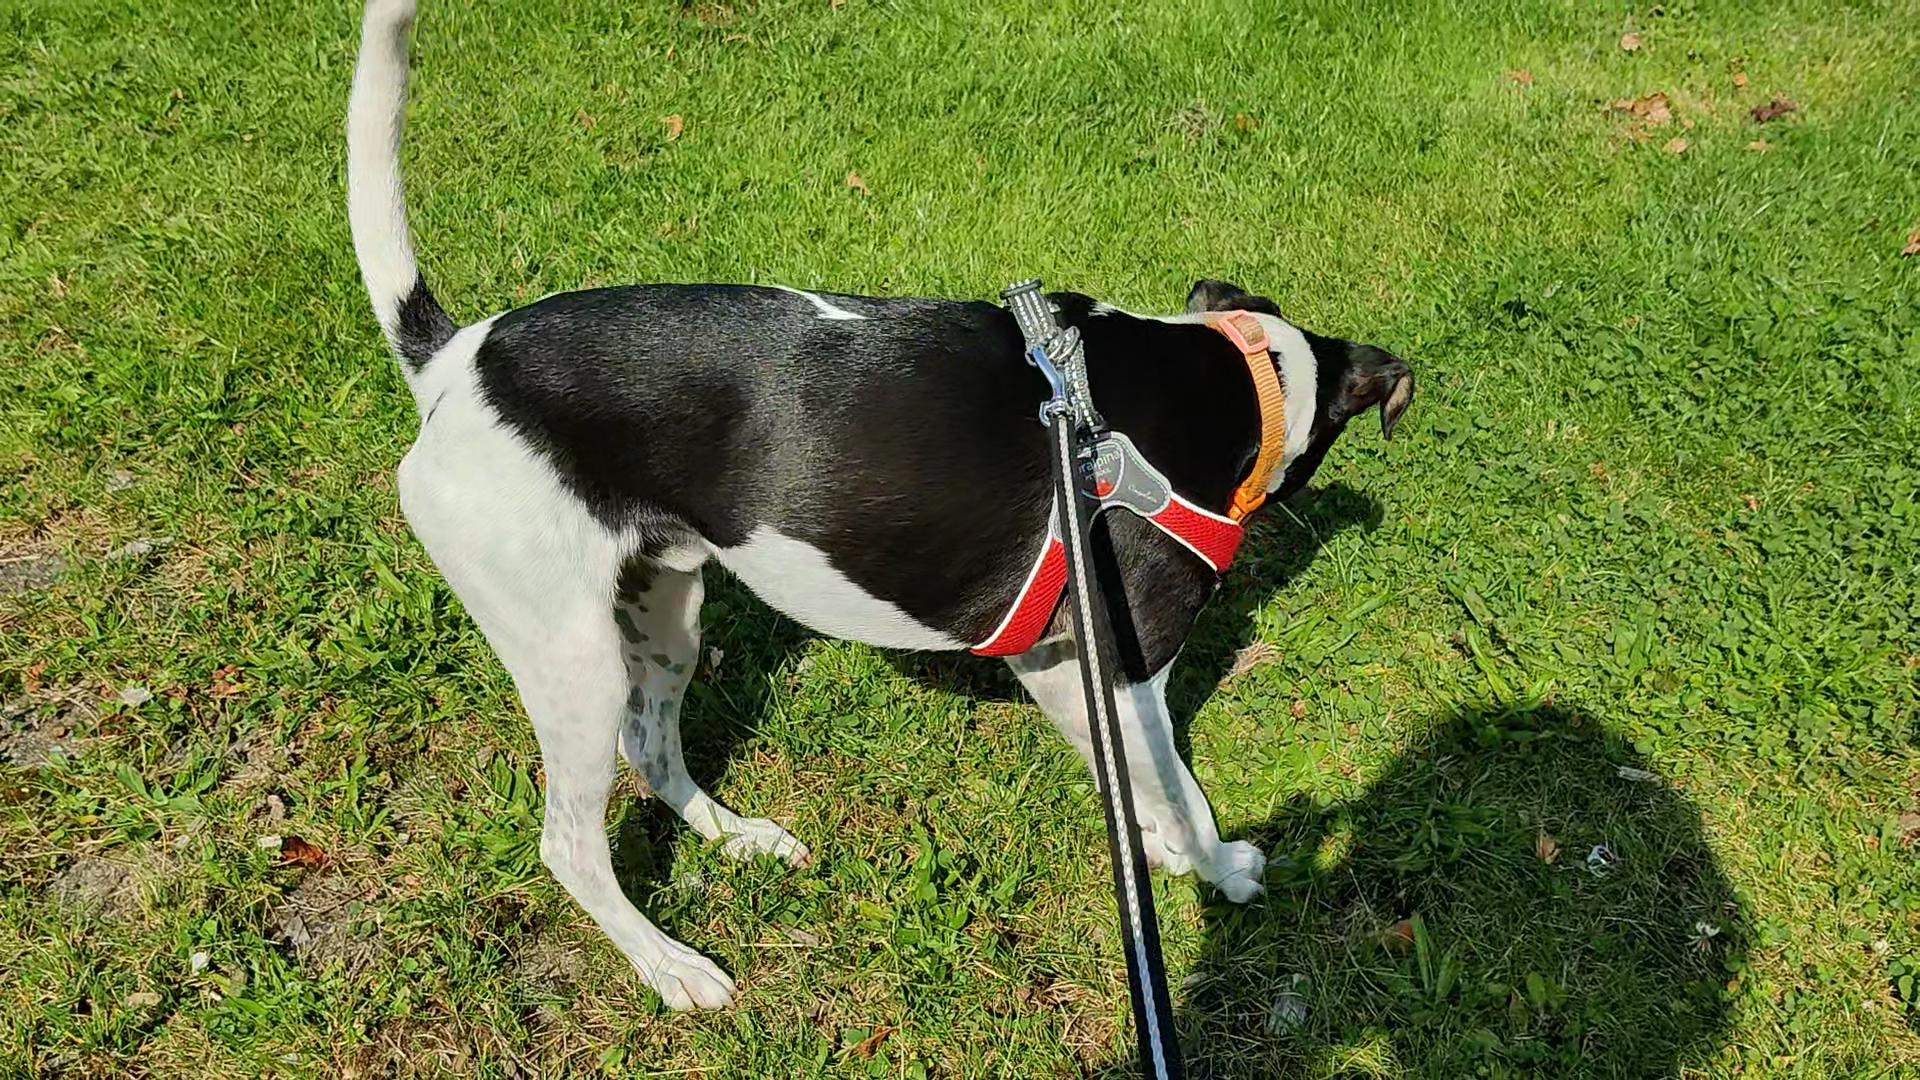Dog: (339, 0, 1418, 1018)
